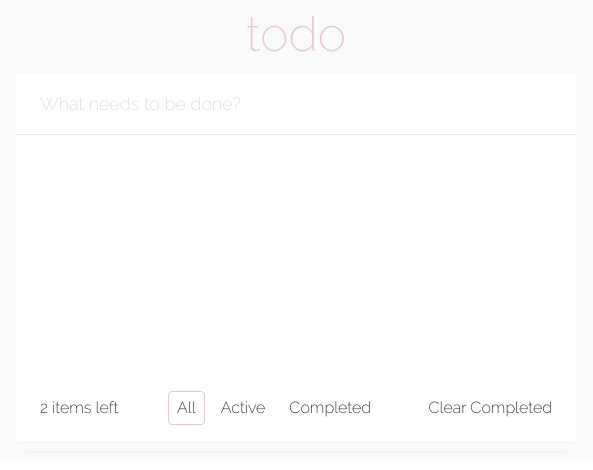
Test case: Main Component › filters tasks
Set filter to active
Click the button with test id "filter-active".
click(243, 408)  # box [213,391,273,425]
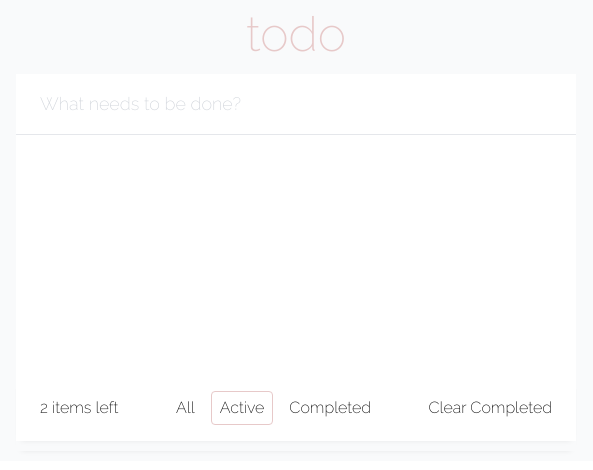
Expected: the text "Write logic" is not shown
Set filter to completed
Click the button with test id "filter-completed".
click(330, 408)  # box [281,391,379,425]
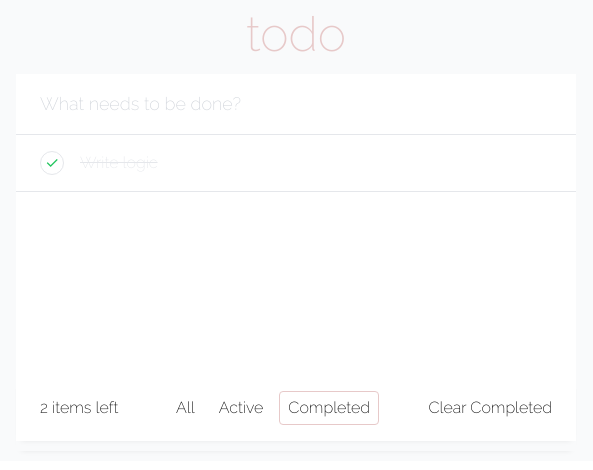
Result: the text "Write logic" is shown at [80,151,158,175]
